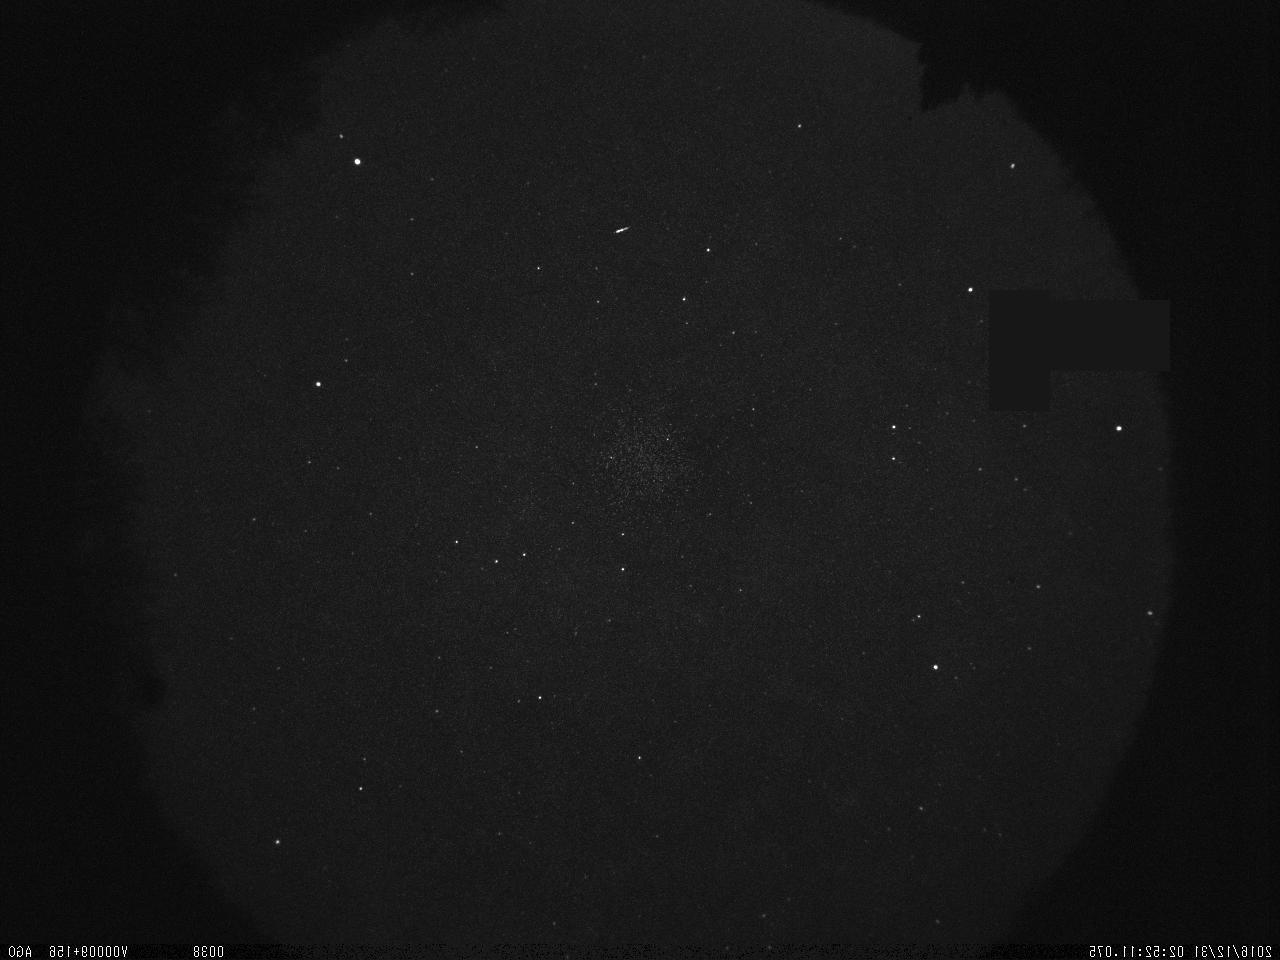meteor: (608, 223, 631, 241)
